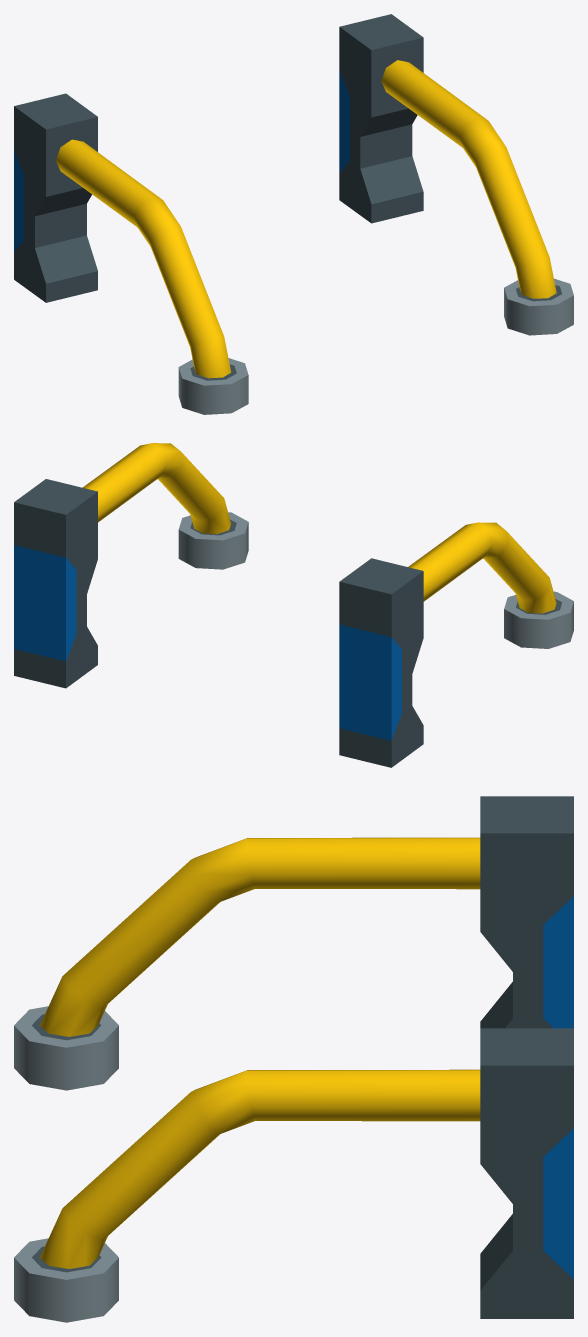
The model's file is Ladder_handle_003.fbx.
3 renders of one model, top to bottom at view 1: azimuth 30°, elevation 25°; view 2: azimuth 150°, elevation 25°; view 3: azimuth 270°, elevation 25°, orthographic. The views are drawn at different scales.
Visible parts, largest first — view 1: Ladder_handle_003; view 2: Ladder_handle_003; view 3: Ladder_handle_003.
Boxes of the visible parts, left/top/right/bottom form: Ladder_handle_003: left=14, top=14, right=573, bottom=414; Ladder_handle_003: left=14, top=443, right=573, bottom=767; Ladder_handle_003: left=14, top=796, right=573, bottom=1322.
Bounding box in the file's own units: 119 × 102 × 50.95.
